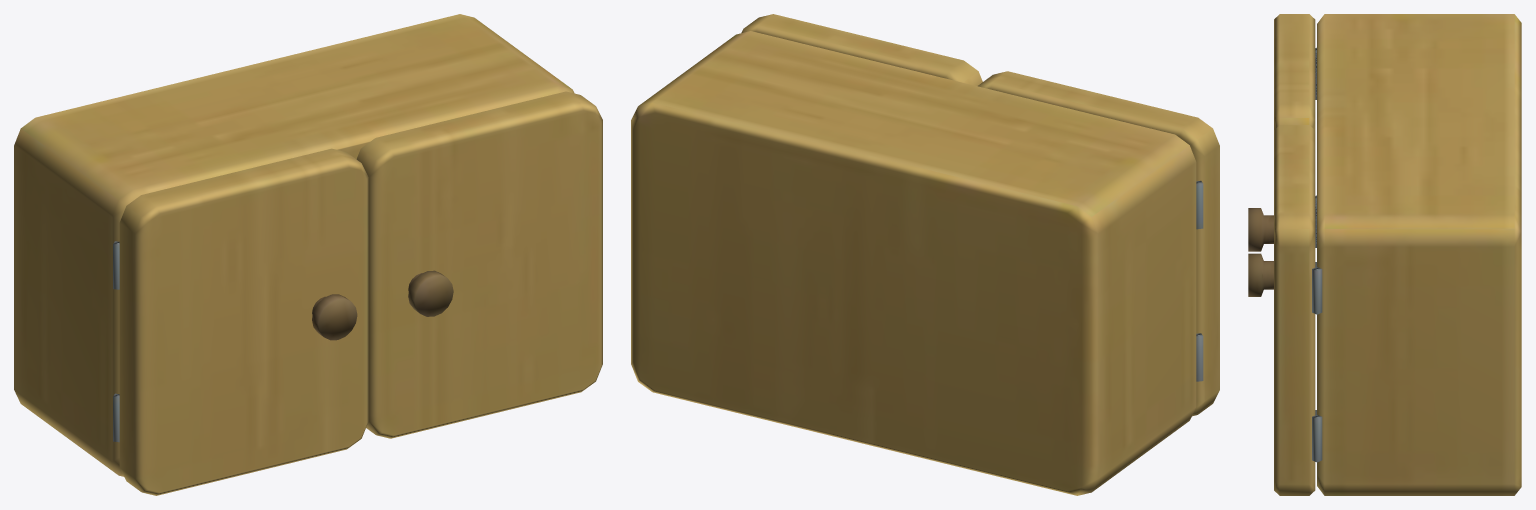
3 views of the same model, side by side, from view 1: azimuth 30°, elevation 25°; view 2: azimuth 150°, elevation 25°; view 3: azimuth 270°, elevation 25° (orthographic). The views are drawn at different scales.
Size of the model in its own units: 7.37 by 4.31 by 3.81.
Materials: 1 (1 with a texture image).
